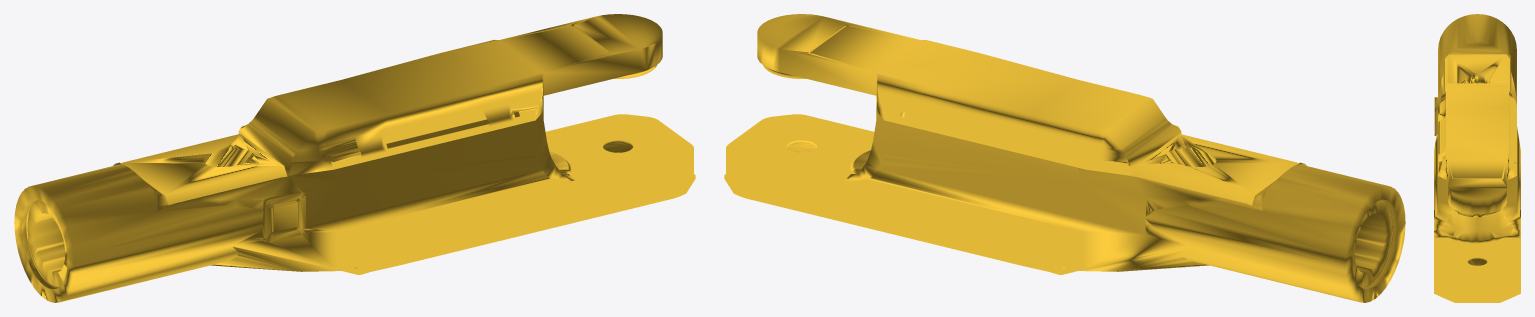
3 renders of one model, left to right at view 1: azimuth 30°, elevation 25°; view 2: azimuth 150°, elevation 25°; view 3: azimuth 270°, elevation 25°, orthographic. The views are drawn at different scales.
Visible parts, largest first — view 1: Node_0x7fd4b7a99030 (×2); view 2: Node_0x7fd4b7a99030 (×2); view 3: Node_0x7fd4b7a99030 (×2).
Part boxes in pixels (left/top/right/bottom): Node_0x7fd4b7a99030 (×2): left=14, top=14, right=695, bottom=302; Node_0x7fd4b7a99030 (×2): left=724, top=14, right=1405, bottom=302; Node_0x7fd4b7a99030 (×2): left=1434, top=14, right=1520, bottom=302.
Bounding box in the file's own units: 0.7174 × 0.1738 × 0.13.
